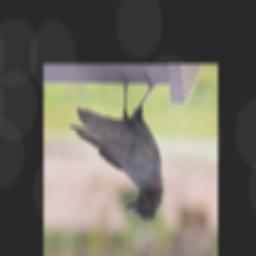Crow: (68, 74, 165, 221)
